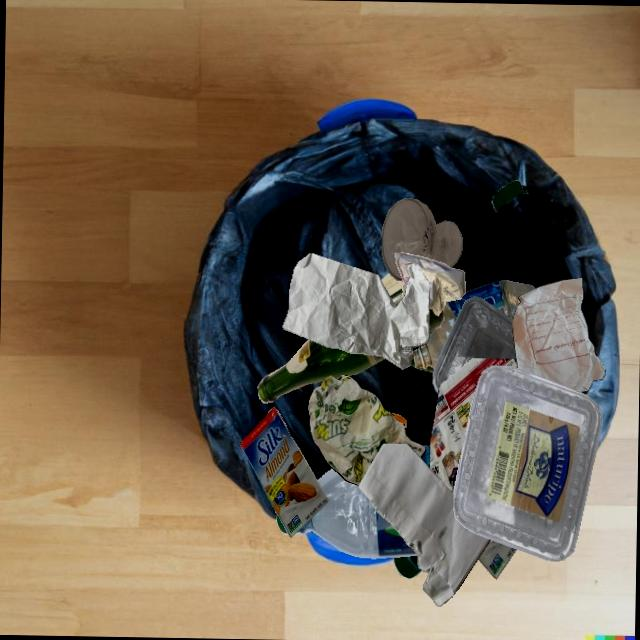cardboard: (239, 406, 328, 537), (478, 540, 516, 579)
glass: (325, 285, 429, 353), (381, 197, 462, 280), (413, 331, 431, 367), (451, 469, 457, 494)
paper: (358, 443, 490, 606), (282, 253, 430, 369), (307, 374, 425, 485), (429, 358, 517, 494), (512, 278, 605, 392), (394, 252, 466, 315)
plastic: (453, 365, 602, 561), (357, 445, 488, 543), (412, 279, 535, 369), (294, 483, 416, 558), (432, 296, 515, 393), (492, 180, 523, 212), (393, 555, 421, 578), (390, 412, 406, 430)
